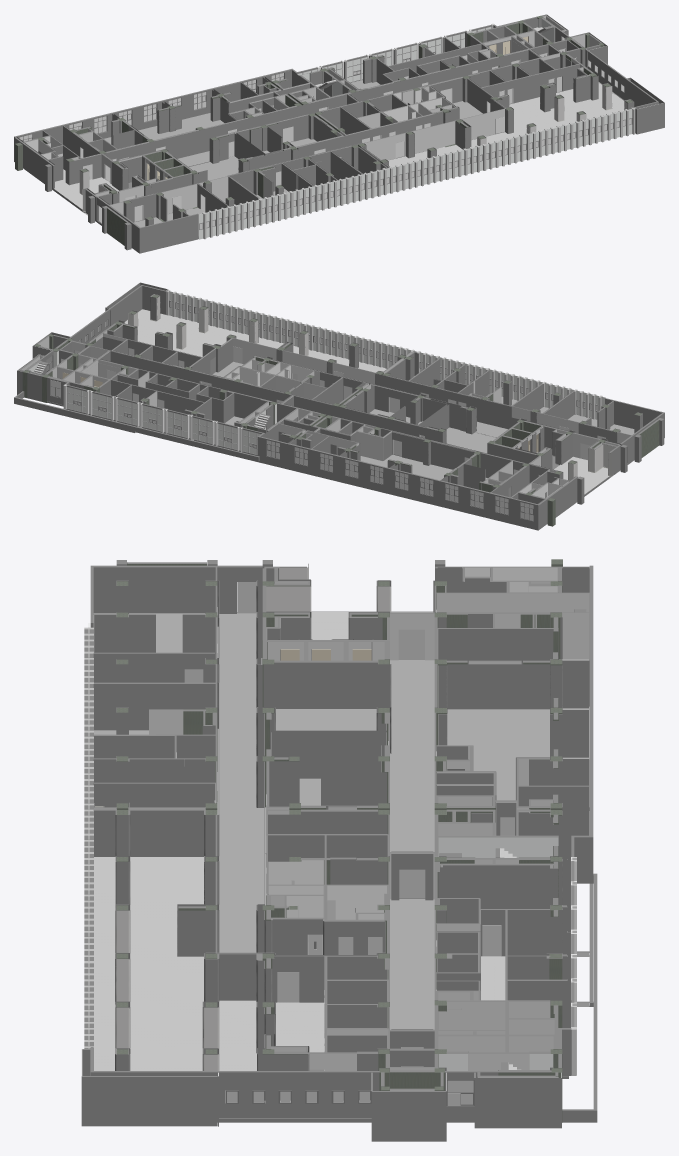
The picture shows the model from 3 angles, top to bottom: view 1: azimuth 30°, elevation 25°; view 2: azimuth 150°, elevation 25°; view 3: azimuth 270°, elevation 25°; orthographic projection. The views are drawn at different scales.
Visible parts, largest first — view 1: Walls, Curtain Panels, Curtain Wall Mullions, Floors, Windows, Structural Columns, Doors; view 2: Walls, Curtain Panels, Floors, Curtain Wall Mullions, Windows, Structural Columns, Doors, Columns; view 3: Walls, Floors, Curtain Panels, Structural Columns, Doors, Curtain Wall Mullions, Windows, Columns.
Part boxes in pixels (x1=…): Walls: x1=14, y1=15, x2=658, y2=253; Curtain Panels: x1=199, y1=14, x2=664, y2=239; Curtain Wall Mullions: x1=202, y1=26, x2=635, y2=239; Floors: x1=54, y1=80, x2=624, y2=238; Windows: x1=19, y1=36, x2=632, y2=229; Structural Columns: x1=15, y1=15, x2=632, y2=250; Doors: x1=57, y1=48, x2=576, y2=222; Walls: x1=14, y1=285, x2=664, y2=530; Curtain Panels: x1=17, y1=282, x2=605, y2=454; Floors: x1=47, y1=309, x2=634, y2=494; Curtain Wall Mullions: x1=67, y1=290, x2=602, y2=455; Windows: x1=46, y1=300, x2=601, y2=520; Structural Columns: x1=22, y1=294, x2=664, y2=526; Doors: x1=61, y1=346, x2=614, y2=498; Columns: x1=63, y1=384, x2=242, y2=452; Walls: x1=90, y1=562, x2=597, y2=1122; Floors: x1=93, y1=611, x2=589, y2=1102; Curtain Panels: x1=81, y1=623, x2=561, y2=1141; Structural Columns: x1=116, y1=559, x2=562, y2=1122; Doors: x1=176, y1=582, x2=586, y2=1070; Curtain Wall Mullions: x1=84, y1=627, x2=93, y2=1075; Windows: x1=226, y1=1080, x2=474, y2=1106; Columns: x1=571, y1=857, x2=576, y2=1075.
Bounding box in the file's own units: 85.5 × 3.78 × 35.03.
Materials: 34 (4 with a texture image).
